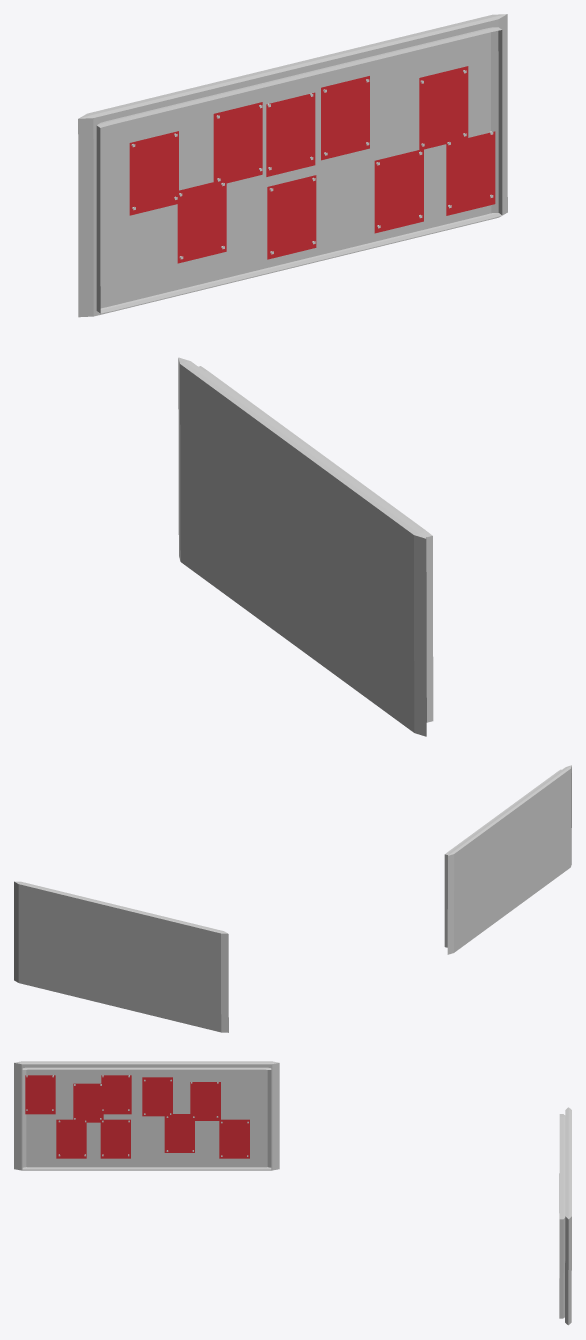
Rendered from classroom_bulletin_boards.fbx.
3 renders of one model, top to bottom at view 1: azimuth 30°, elevation 25°; view 2: azimuth 150°, elevation 25°; view 3: azimuth 270°, elevation 25°, orthographic. The views are drawn at different scales.
Parts seen in each view (by area): view 1: Cube.520, Cube.410, Plane.051, Plane.049, Plane.047, Plane.046, Plane.052, Plane.053, Plane.048, Plane.050, Plane.045; view 2: Cube.520, Cube.410; view 3: Cube.410, Cube.520, Plane.035, Plane.027, Plane.032, Plane.030, Plane.031, Plane.034, Plane.033, Plane.028, Plane.029.
Part boxes in pixels (x1=…): Cube.520: x1=78, y1=14, x2=507, y2=317; Cube.410: x1=178, y1=357, x2=433, y2=736; Plane.051: x1=267, y1=175, x2=316, y2=259; Plane.049: x1=213, y1=102, x2=262, y2=186; Plane.047: x1=374, y1=149, x2=423, y2=233; Plane.046: x1=446, y1=131, x2=495, y2=215; Plane.052: x1=266, y1=92, x2=315, y2=176; Plane.053: x1=129, y1=131, x2=178, y2=215; Plane.048: x1=419, y1=66, x2=468, y2=150; Plane.050: x1=177, y1=182, x2=226, y2=263; Plane.045: x1=321, y1=76, x2=369, y2=160; Cube.520: x1=14, y1=881, x2=228, y2=1032; Cube.410: x1=444, y1=765, x2=571, y2=954; Cube.410: x1=14, y1=1061, x2=279, y2=1170; Cube.520: x1=559, y1=1107, x2=571, y2=1325; Plane.035: x1=25, y1=1075, x2=55, y2=1114; Plane.027: x1=142, y1=1077, x2=172, y2=1116; Plane.032: x1=100, y1=1119, x2=130, y2=1158; Plane.030: x1=219, y1=1119, x2=249, y2=1158; Plane.031: x1=56, y1=1119, x2=86, y2=1158; Plane.034: x1=73, y1=1083, x2=103, y2=1122; Plane.033: x1=101, y1=1075, x2=131, y2=1114; Plane.028: x1=164, y1=1114, x2=194, y2=1152; Plane.029: x1=190, y1=1082, x2=220, y2=1120.
Size of the model in its own units: 722 by 227 by 1078.
